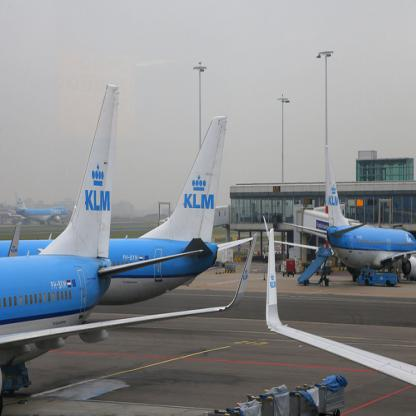CIV_Plane: (0, 77, 257, 370), (262, 140, 416, 288), (3, 186, 70, 226)
